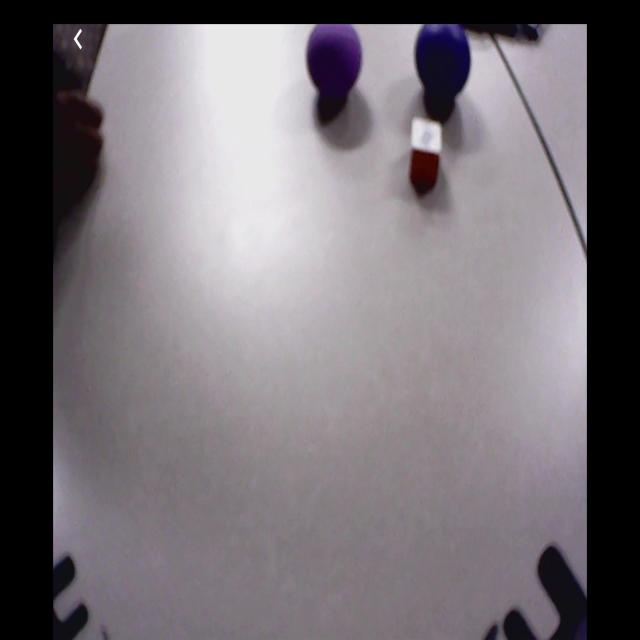ball: (307, 25, 364, 102), (416, 26, 471, 95)
